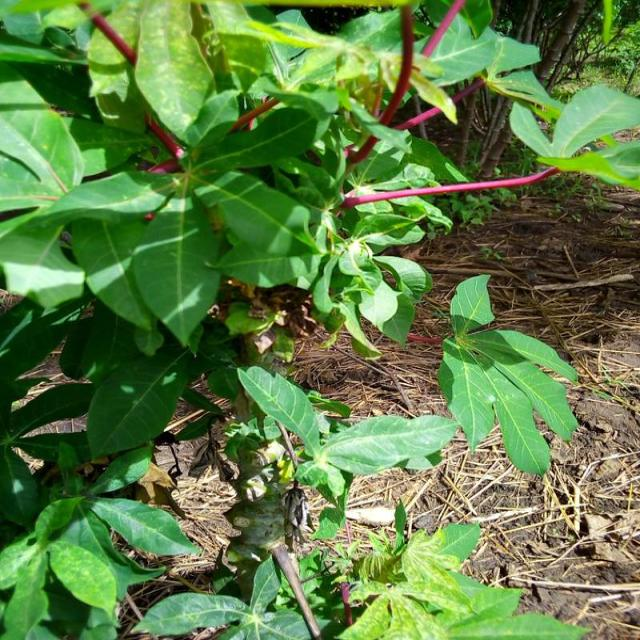cassava leaf: (1, 0, 637, 637), (437, 272, 578, 477)
